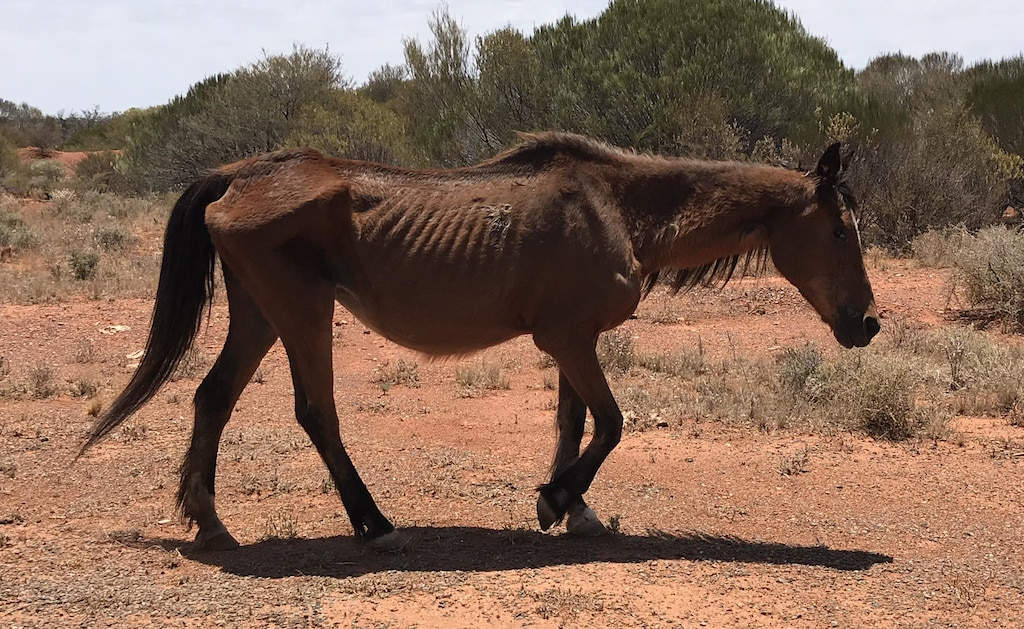horse: (111, 128, 905, 562)
